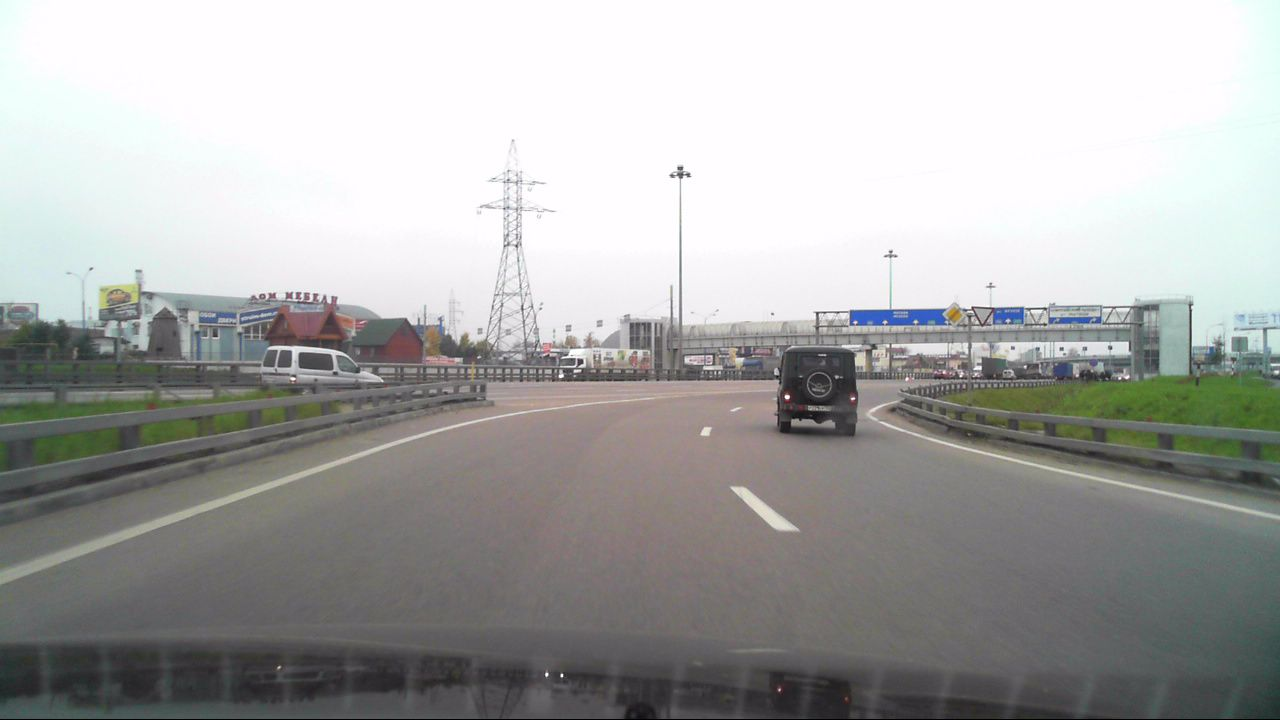main road: (943, 301, 965, 325)
